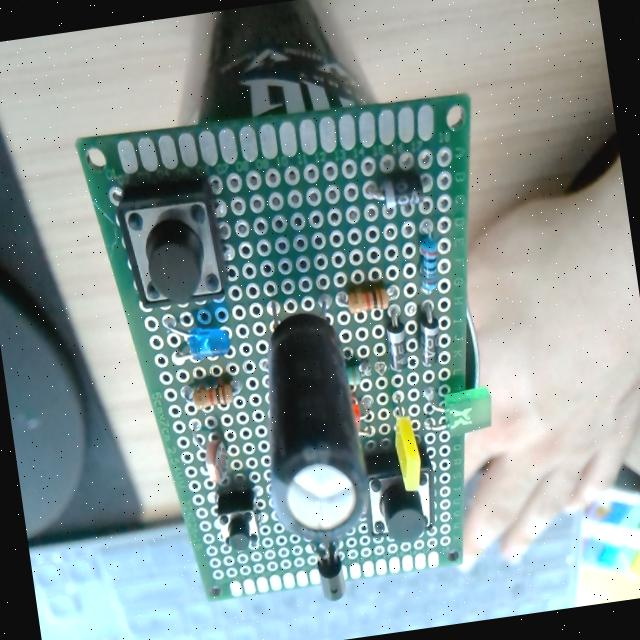Electrolytic capacitor: (238, 304, 382, 548)
cds: (186, 420, 240, 494)
diode: (367, 172, 428, 213), (382, 308, 412, 372), (414, 307, 445, 368)
led: (164, 311, 234, 365), (442, 384, 498, 438), (391, 414, 425, 493)
resistor: (414, 235, 446, 295), (347, 284, 390, 314), (192, 380, 235, 410)
switch: (116, 176, 232, 314), (362, 458, 445, 553), (213, 488, 266, 556)
transistor: (304, 536, 356, 612)
